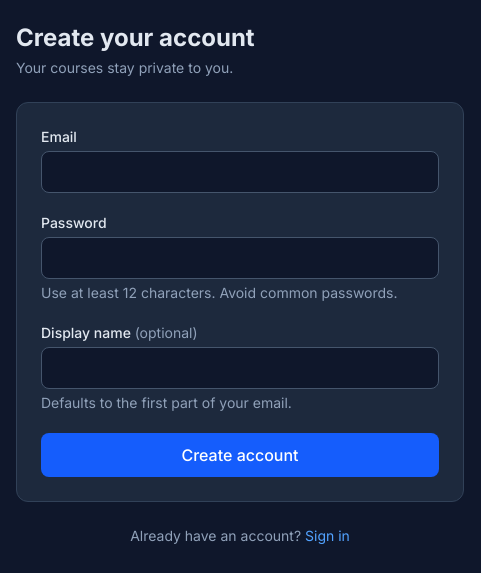
it: Register page › shows server field errors against the matching field as plain text
The image size is (481, 573).
Type "ada@example.com" into the field labelled "Email" at [240, 172], box [41,151,439,193]
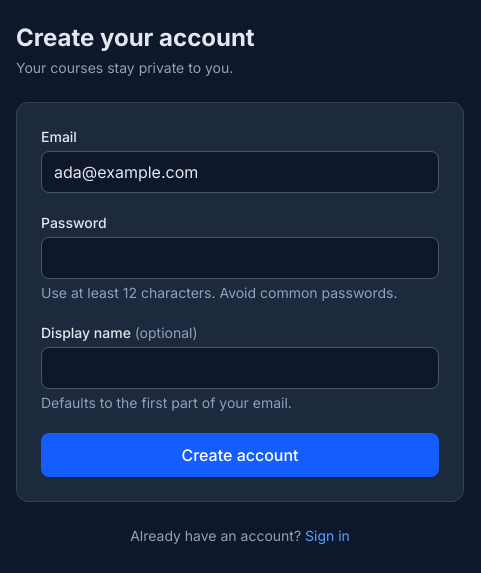
Type "correct horse battery" into the password field labelled "Password" at [240, 258], box [41,237,439,279]
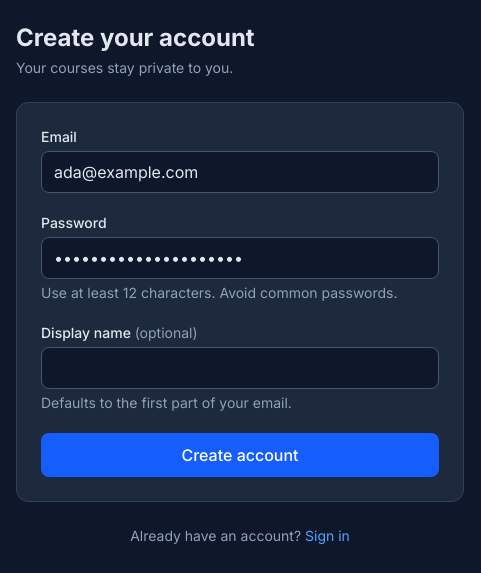
Click the button "Create account" at [240, 455], box [41,433,439,477]
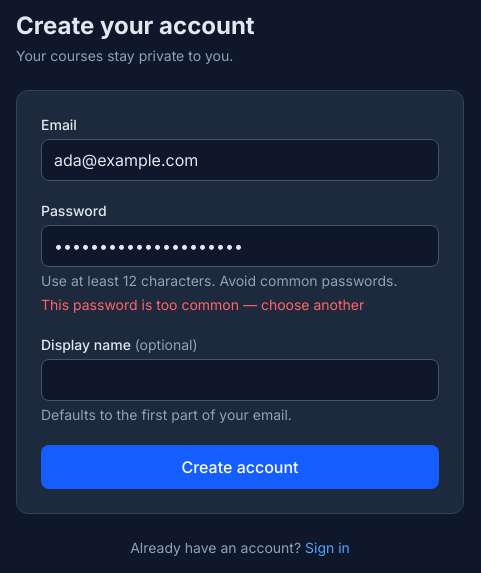
Expected: the text "This password is too common — choose another" is shown, [41,296,364,313]
